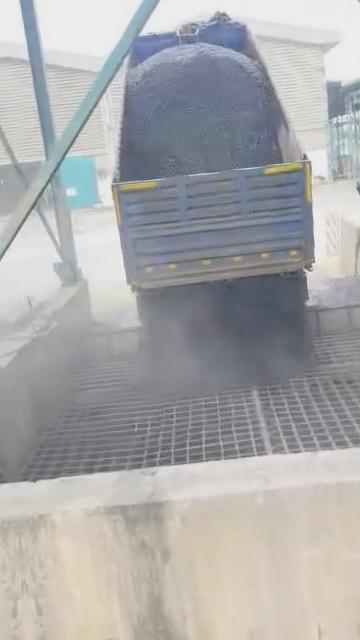gravel: (117, 43, 281, 179), (137, 276, 309, 389), (311, 275, 360, 307)
